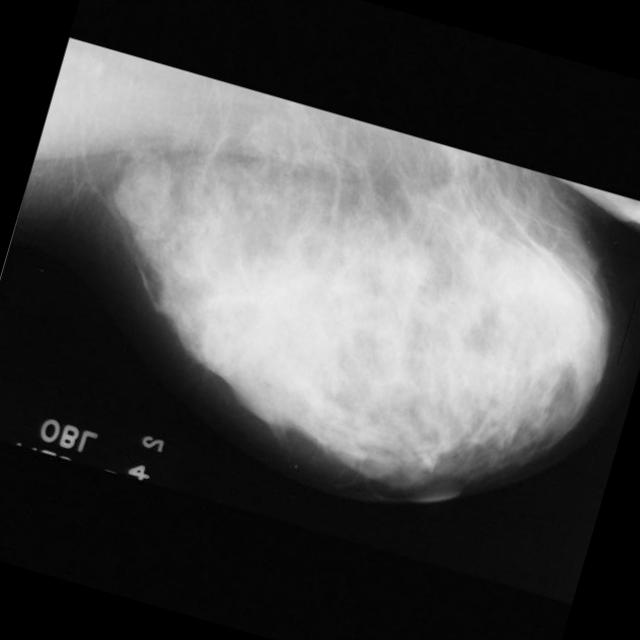CALC: (166, 168, 228, 230)
